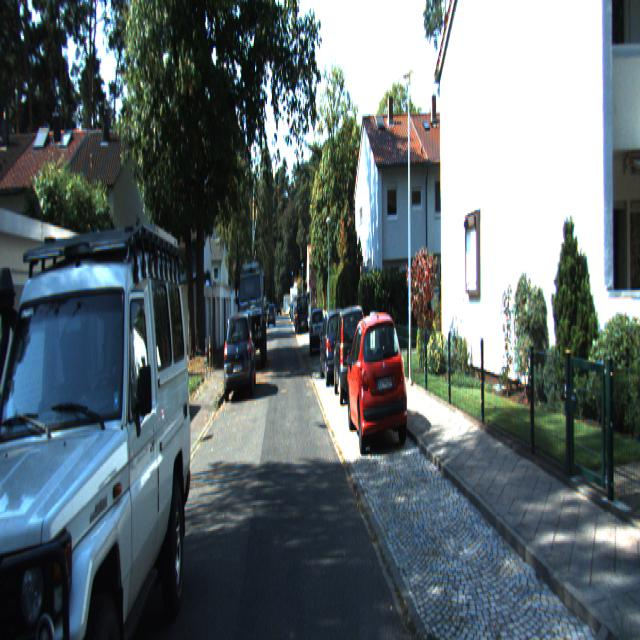Car: (0, 159, 192, 638), (343, 307, 407, 461), (332, 306, 368, 404), (222, 308, 255, 400), (238, 256, 266, 360), (318, 309, 349, 389), (309, 307, 327, 357), (295, 295, 309, 335)
